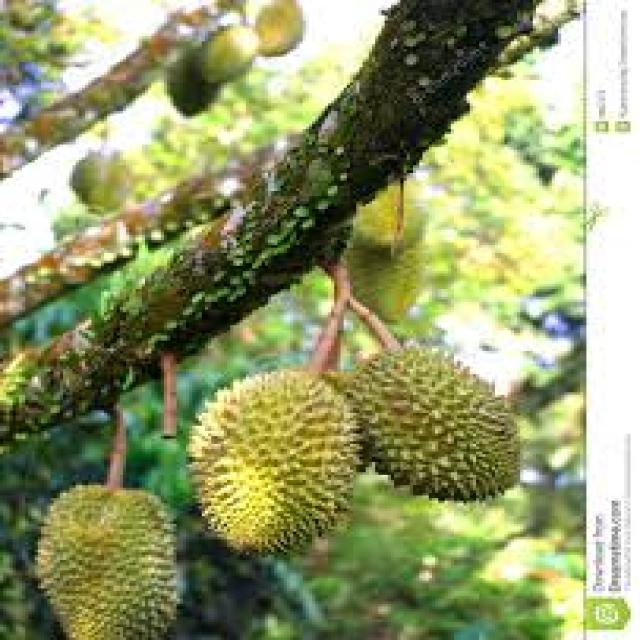immature: (351, 342, 525, 503), (36, 483, 181, 640)
mature: (185, 368, 365, 559)
